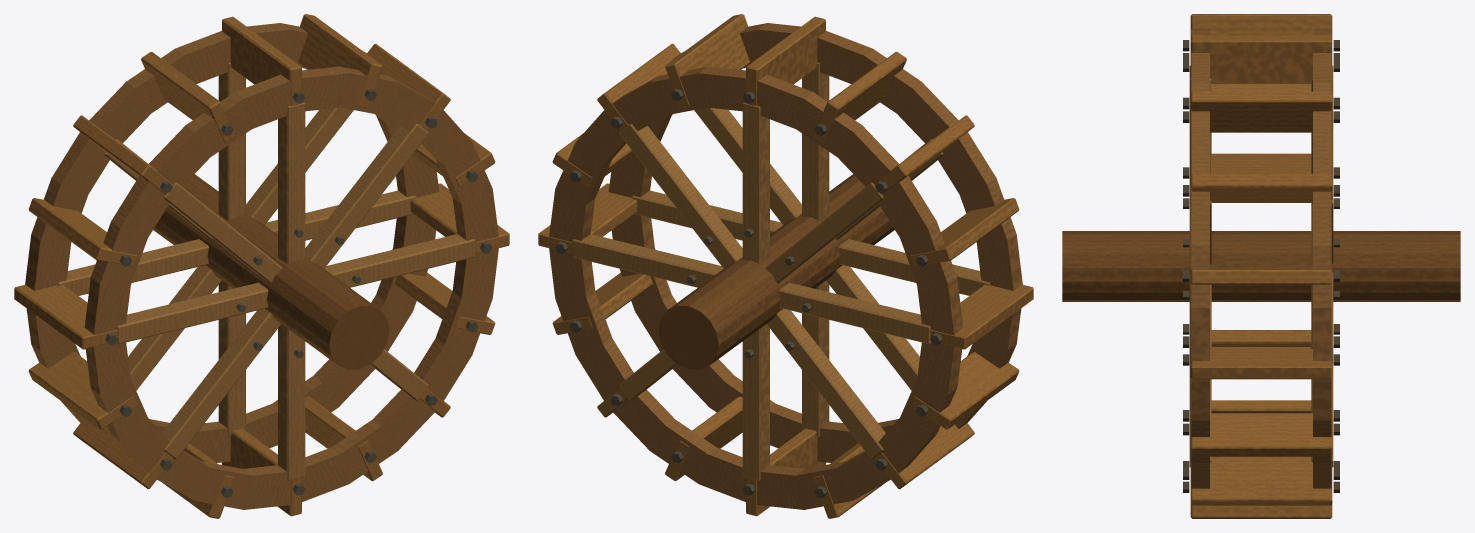
File: SM_MolinoAgua_Rueda_Detalle_LOD0.fbx
3 renders of one model, left to right at view 1: azimuth 30°, elevation 25°; view 2: azimuth 150°, elevation 25°; view 3: azimuth 270°, elevation 25°, orthographic. The views are drawn at different scales.
Visible parts, largest first — view 1: SM_MolinoAgua_Rueda_Detalle_LOD0; view 2: SM_MolinoAgua_Rueda_Detalle_LOD0; view 3: SM_MolinoAgua_Rueda_Detalle_LOD0.
Boxes of the visible parts, left/top/right/bottom form: SM_MolinoAgua_Rueda_Detalle_LOD0: left=14, top=14, right=509, bottom=518; SM_MolinoAgua_Rueda_Detalle_LOD0: left=538, top=14, right=1033, bottom=518; SM_MolinoAgua_Rueda_Detalle_LOD0: left=1062, top=14, right=1460, bottom=518.
Size of the model in its own units: 0.482 by 0.482 by 0.38.
1 material, 1 textured.
